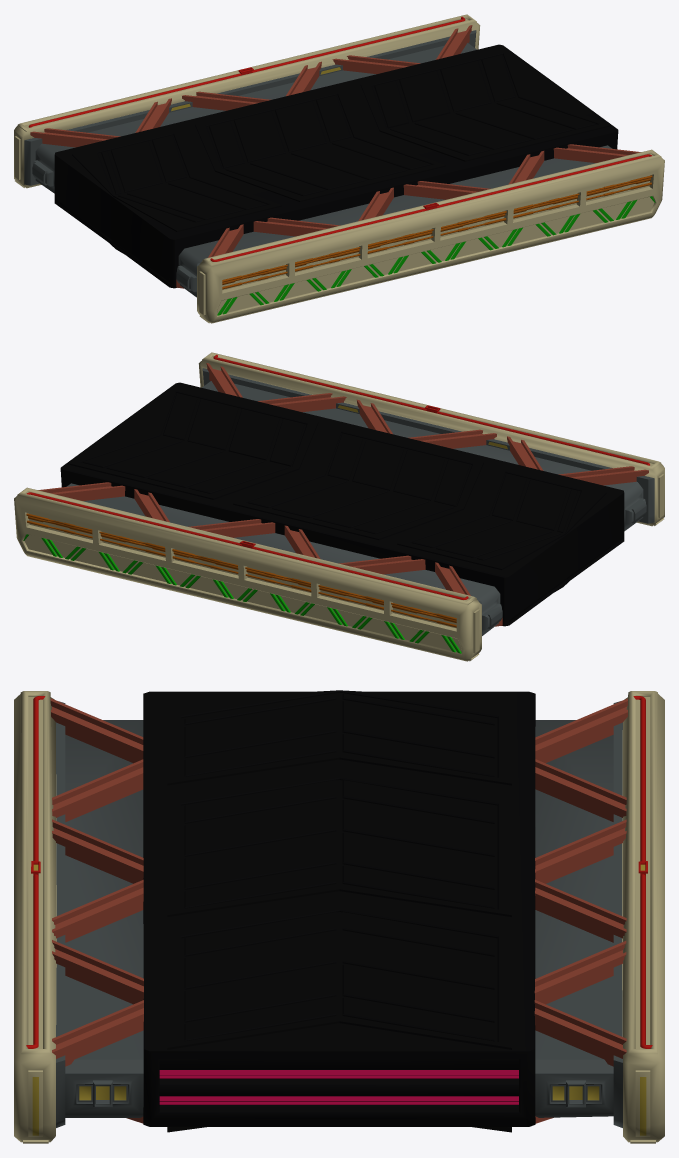
File: OBJ_Plateforme_Normal_21.fbx
3 renders of one model, top to bottom at view 1: azimuth 30°, elevation 25°; view 2: azimuth 150°, elevation 25°; view 3: azimuth 270°, elevation 25°, orthographic. The views are drawn at different scales.
Visible parts, largest first — view 1: Obj_plateforme21_LP:Plateforme_21LP; view 2: Obj_plateforme21_LP:Plateforme_21LP; view 3: Obj_plateforme21_LP:Plateforme_21LP.
Boxes of the visible parts, box(x1,y1,x2,y2) form: Obj_plateforme21_LP:Plateforme_21LP: box(14, 14, 664, 323); Obj_plateforme21_LP:Plateforme_21LP: box(14, 352, 664, 661); Obj_plateforme21_LP:Plateforme_21LP: box(14, 690, 664, 1143).
Size of the model in its own units: 4030 by 524 by 2999.
